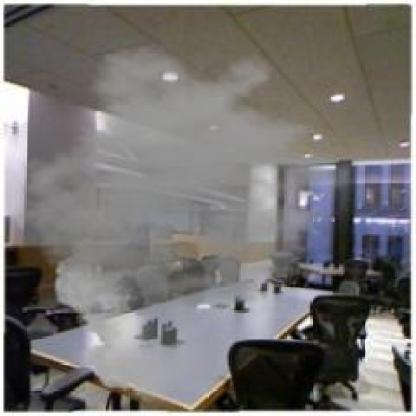Smoke: (8, 44, 373, 408)
